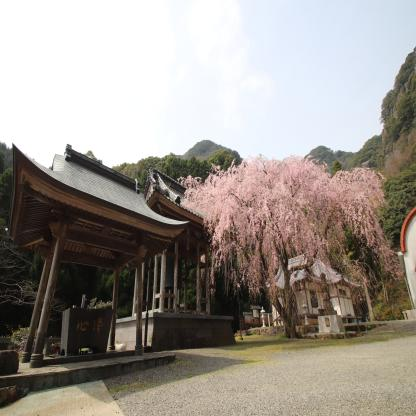ShidareZakura: (178, 152, 405, 326)
